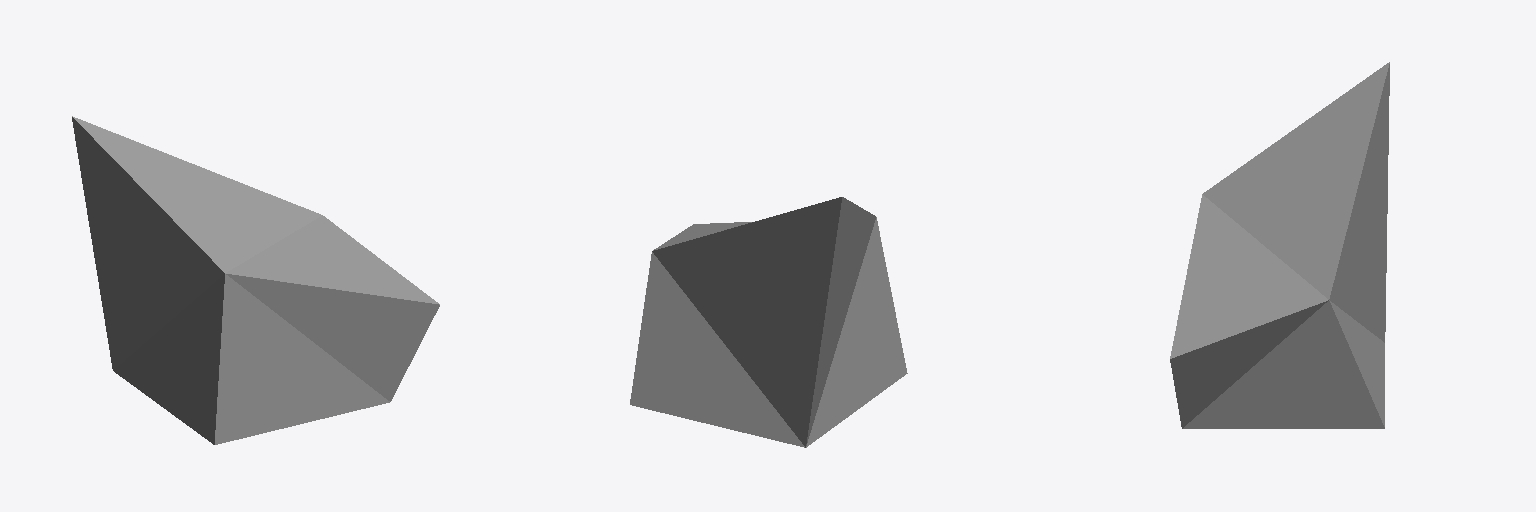
File: runealtar_fire.obj
The picture shows the model from 3 angles: view 1: azimuth 30°, elevation 25°; view 2: azimuth 150°, elevation 25°; view 3: azimuth 270°, elevation 25°; orthographic projection.
Parts seen in each view (by area): view 1: Cube; view 2: Cube; view 3: Cube.
Part boxes in pixels (x1,y1,x2,y2): Cube: (72, 116, 439, 444); Cube: (630, 197, 907, 447); Cube: (1170, 62, 1389, 428).
Bounding box in the file's own units: 1.47 × 1.43 × 1.08.